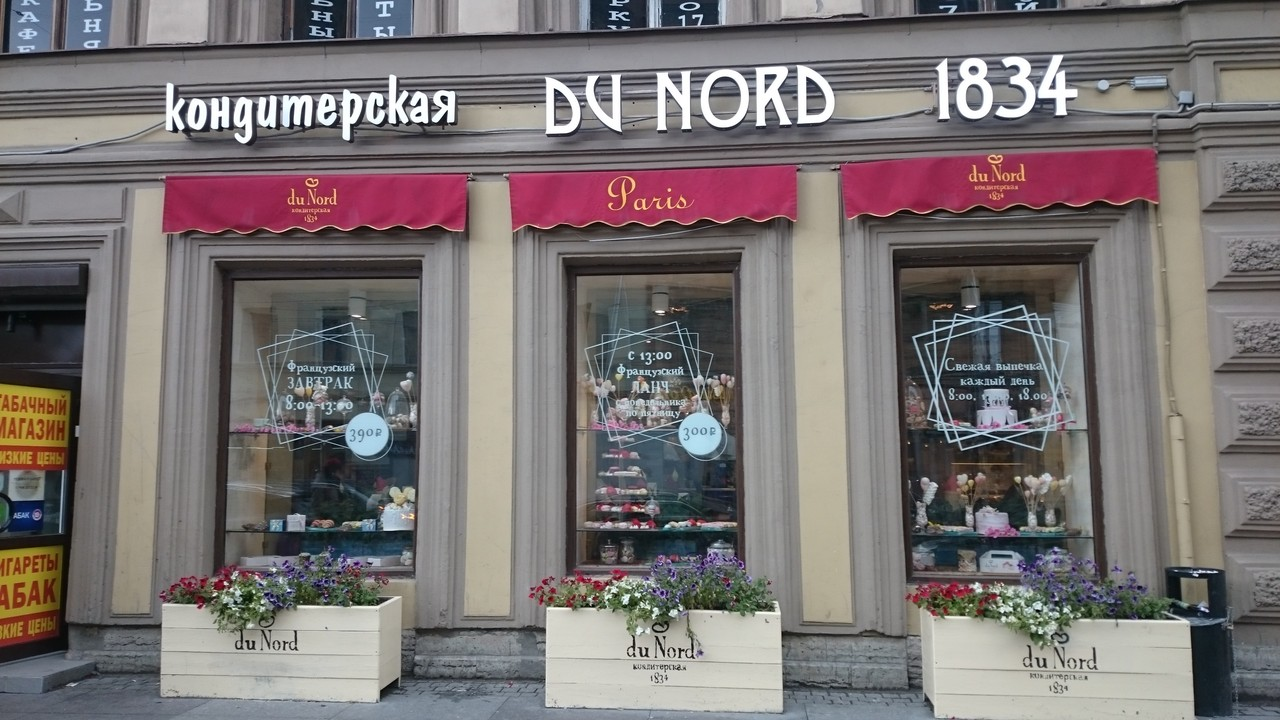signboard: (545, 63, 838, 136), (164, 78, 458, 144), (934, 54, 1080, 121)
win_ad: (911, 302, 1074, 452), (582, 316, 729, 462), (253, 320, 396, 460)
window: (897, 261, 1099, 583), (216, 263, 417, 575), (565, 269, 742, 569)
